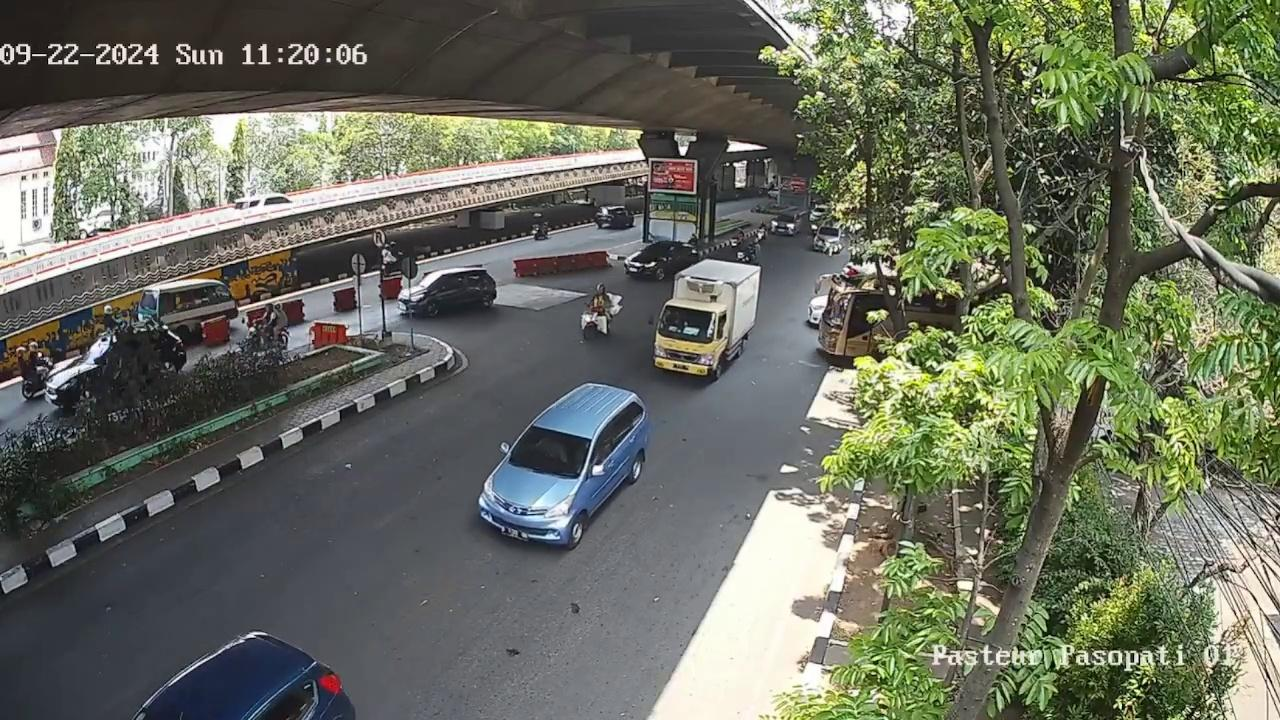tidak-pakai: (531, 431, 568, 468)
windshield: (510, 426, 592, 479), (657, 306, 716, 341)
